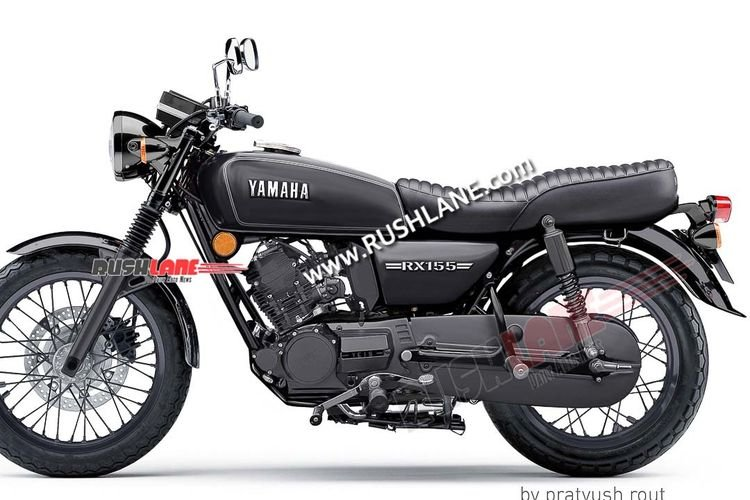motor: (17, 105, 729, 483)
